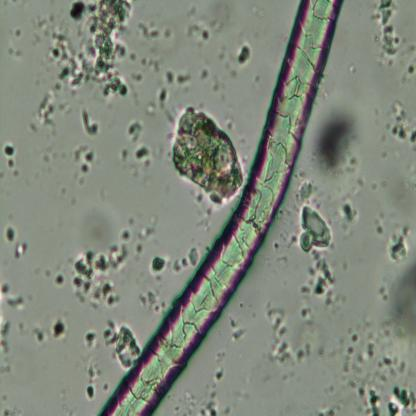Background material: (41, 0, 134, 101), (174, 104, 246, 209), (70, 227, 132, 306), (310, 112, 361, 182), (386, 263, 416, 335), (26, 93, 72, 138), (262, 301, 293, 367), (370, 0, 400, 68), (199, 348, 226, 416), (104, 320, 140, 369), (301, 249, 332, 300), (386, 213, 416, 265), (302, 206, 332, 256), (385, 98, 416, 146), (159, 69, 196, 109), (183, 4, 223, 35), (70, 141, 96, 188), (133, 212, 157, 262), (27, 11, 58, 46), (384, 384, 416, 416), (375, 354, 410, 382), (0, 282, 27, 316), (173, 245, 202, 275), (294, 170, 316, 208), (356, 385, 382, 416), (186, 17, 212, 48), (138, 20, 174, 41), (85, 357, 101, 402), (79, 106, 101, 138), (401, 38, 416, 84), (0, 316, 11, 378), (50, 313, 72, 344), (172, 391, 199, 416), (140, 288, 168, 312), (4, 140, 18, 182), (195, 194, 210, 231), (295, 306, 317, 331), (124, 118, 145, 142), (282, 206, 300, 233), (60, 389, 78, 416), (296, 342, 314, 367), (340, 201, 358, 225), (326, 293, 346, 313), (397, 179, 416, 200), (346, 176, 365, 197), (372, 322, 390, 344), (315, 402, 343, 416), (229, 317, 244, 343), (140, 55, 160, 73), (2, 224, 18, 246), (148, 256, 167, 274), (43, 148, 67, 162), (378, 274, 389, 304), (0, 403, 25, 416), (31, 327, 47, 347), (406, 146, 416, 177), (238, 44, 252, 66), (213, 76, 225, 101), (83, 330, 98, 350), (344, 345, 355, 372), (132, 148, 152, 162), (143, 101, 159, 118), (14, 240, 28, 258), (6, 45, 22, 60), (374, 212, 384, 235), (364, 340, 376, 359), (52, 271, 65, 288), (129, 68, 144, 82), (200, 68, 212, 85), (347, 327, 359, 344), (165, 107, 175, 127), (131, 84, 140, 106), (15, 320, 27, 335), (120, 147, 130, 164), (250, 6, 264, 18), (219, 43, 228, 61), (280, 371, 294, 382), (330, 211, 340, 226), (274, 254, 287, 265), (349, 374, 359, 388), (222, 402, 232, 416), (356, 352, 365, 366), (259, 370, 269, 382), (14, 28, 24, 40), (288, 235, 296, 249), (144, 159, 152, 173), (128, 51, 138, 62), (42, 267, 52, 278), (57, 186, 68, 196), (324, 384, 336, 393), (347, 62, 356, 74), (377, 152, 390, 160), (364, 318, 373, 328), (132, 276, 142, 285), (317, 347, 325, 358), (343, 260, 351, 271), (70, 196, 78, 207), (371, 181, 379, 192), (158, 144, 164, 158), (229, 71, 238, 80), (1, 394, 10, 403), (132, 164, 138, 176), (373, 116, 380, 126), (380, 181, 388, 189), (280, 231, 287, 240), (167, 132, 174, 141), (103, 382, 109, 392), (128, 216, 133, 228), (8, 211, 13, 222), (273, 241, 279, 250), (374, 107, 380, 116), (35, 268, 40, 276), (240, 301, 244, 310), (225, 63, 229, 71), (286, 408, 291, 413), (252, 311, 255, 316)
Hair: (98, 0, 346, 416)
